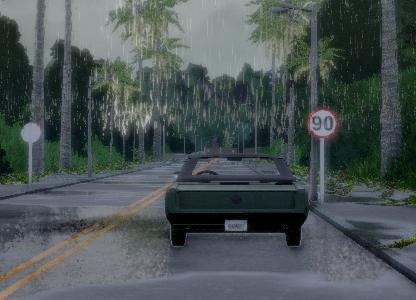Speed_90: (305, 101, 340, 142)
